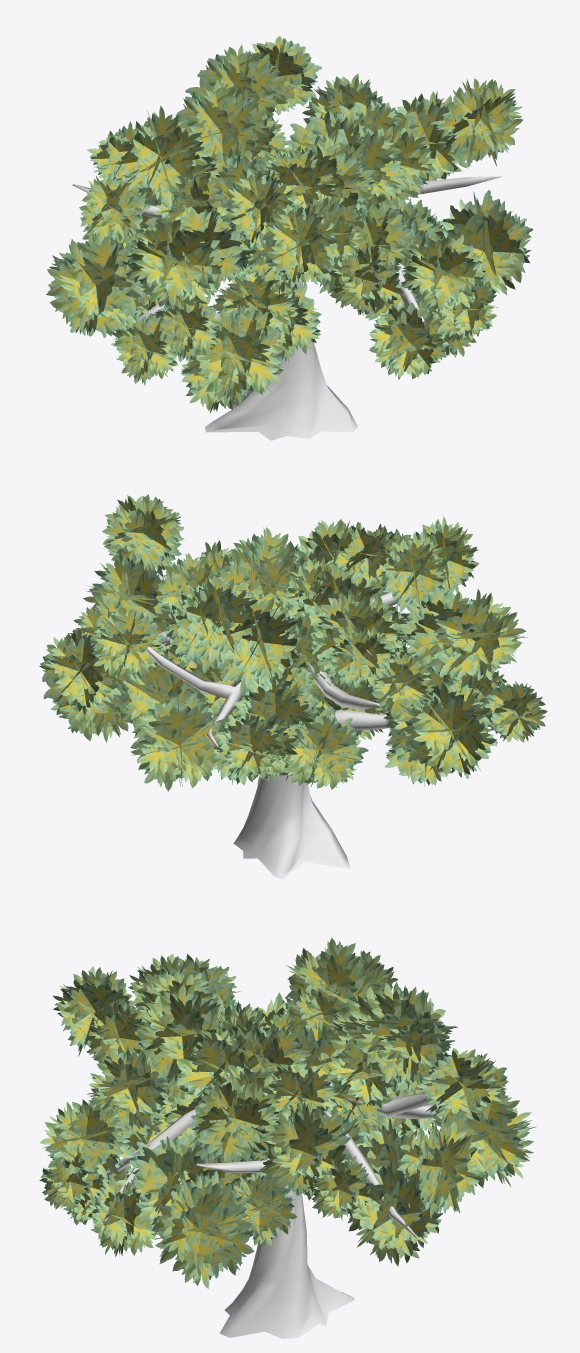
The model's file is JungleTree.FBX.
The picture shows the model from 3 angles, top to bottom: view 1: azimuth 30°, elevation 25°; view 2: azimuth 150°, elevation 25°; view 3: azimuth 270°, elevation 25°; orthographic projection. The views are drawn at different scales.
Visible parts, largest first — view 1: LeavesRenormal, Cylinder001; view 2: LeavesRenormal, Cylinder001; view 3: LeavesRenormal, Cylinder001.
Part boxes in pixels (box(x1,y1,x2,y2)): LeavesRenormal: box(46, 36, 533, 412); Cylinder001: box(72, 176, 501, 440); LeavesRenormal: box(39, 494, 547, 791); Cylinder001: box(141, 569, 494, 879); LeavesRenormal: box(39, 938, 536, 1288); Cylinder001: box(103, 1082, 437, 1338).
Bounding box in the file's own units: 2535 × 1731 × 2445.
